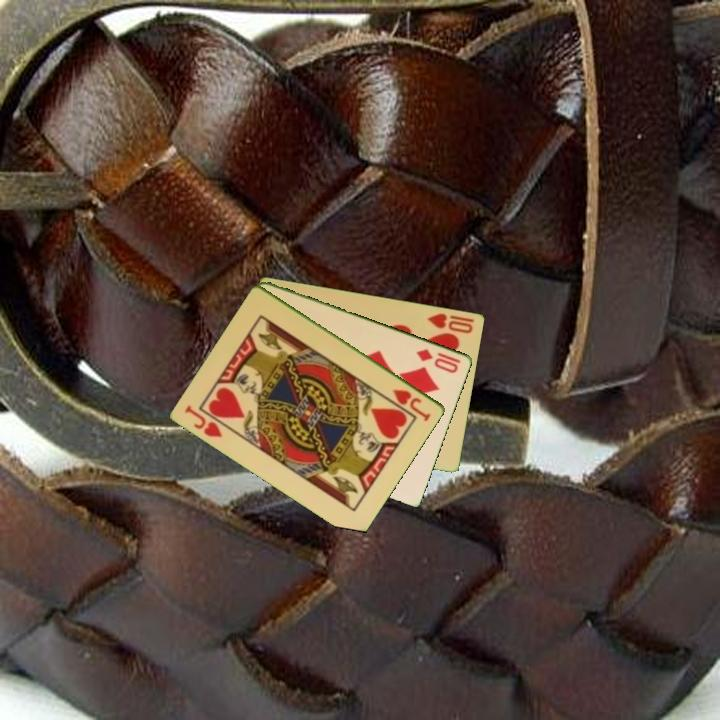10d: (413, 345, 464, 376)
10h: (424, 309, 477, 336)
Jh: (182, 401, 226, 440), (390, 386, 434, 424)
